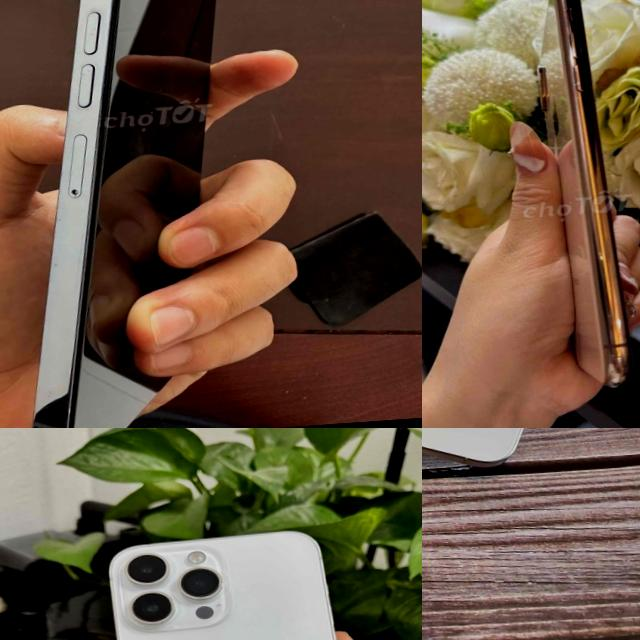gen_12_13: (0, 0, 257, 428)
gen_14: (88, 512, 380, 640)
gen_x_xs: (538, 0, 632, 386)
